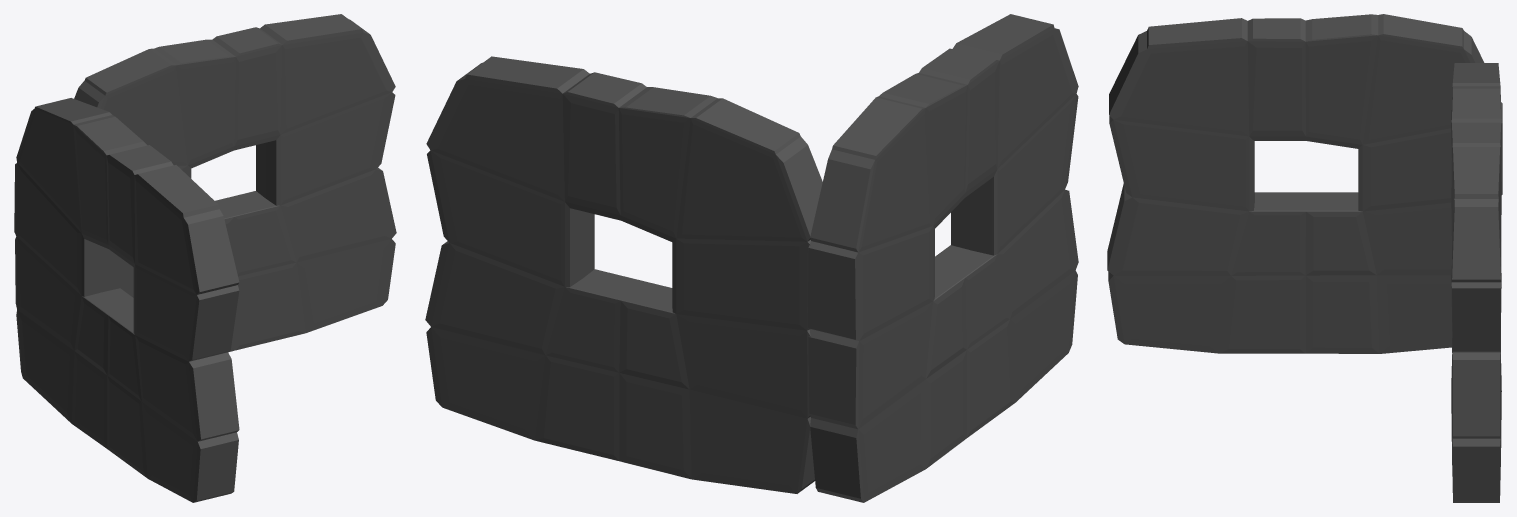
The model's file is Mesh_House_half_Interior_Temple_TL.fbx.
The picture shows the model from 3 angles, left to right: view 1: azimuth 30°, elevation 25°; view 2: azimuth 150°, elevation 25°; view 3: azimuth 270°, elevation 25°; orthographic projection. The views are drawn at different scales.
Visible parts, largest first — view 1: Mesh_House_half_Interior_Temple_TL; view 2: Mesh_House_half_Interior_Temple_TL; view 3: Mesh_House_half_Interior_Temple_TL.
Boxes of the visible parts, x1=… form: Mesh_House_half_Interior_Temple_TL: x1=14, y1=14, x2=396, y2=502; Mesh_House_half_Interior_Temple_TL: x1=425, y1=14, x2=1078, y2=502; Mesh_House_half_Interior_Temple_TL: x1=1107, y1=14, x2=1502, y2=502.
Size of the model in its own units: 690 by 551 by 618.
